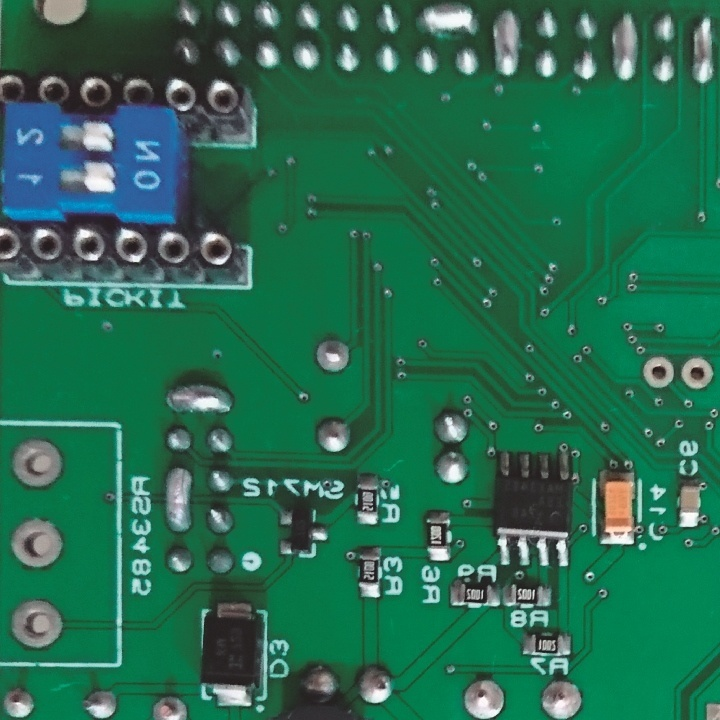F: (9, 432, 70, 492), (8, 597, 68, 650), (10, 514, 67, 569), (459, 673, 507, 720), (537, 675, 587, 720), (313, 336, 355, 376), (79, 683, 124, 720), (145, 689, 195, 720), (1, 682, 41, 720), (678, 352, 714, 394), (639, 353, 675, 394)
P: (162, 381, 238, 421), (414, 1, 480, 41), (490, 6, 524, 83), (687, 13, 720, 92), (162, 463, 193, 539), (609, 10, 640, 83)
